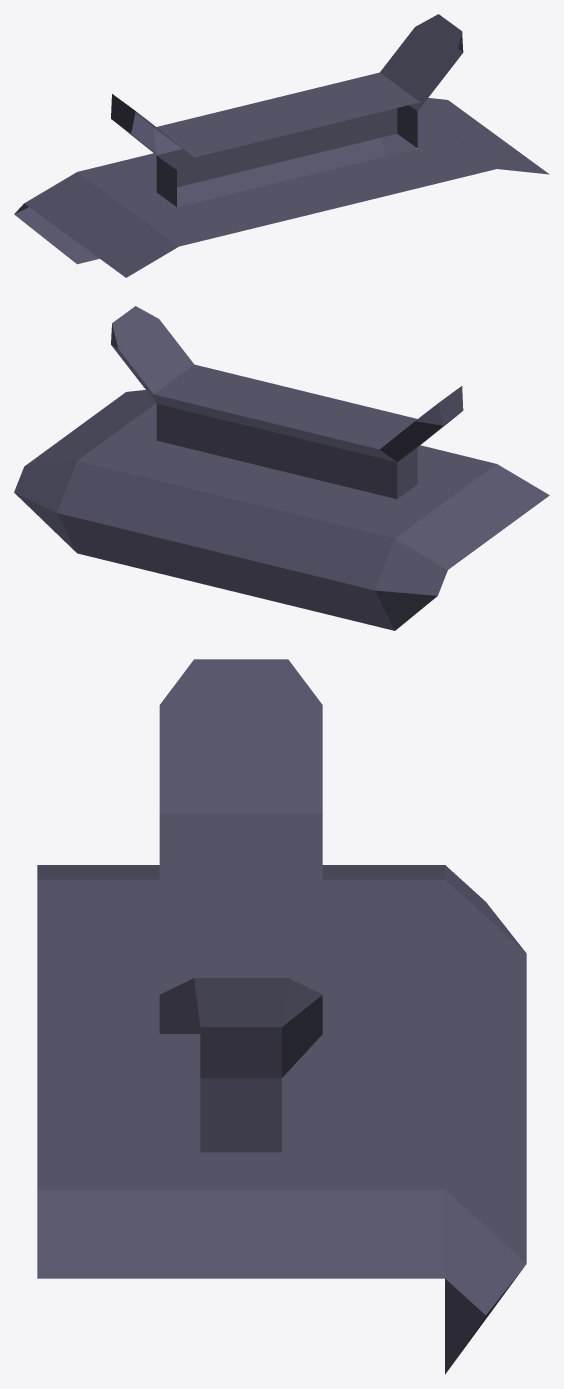
File: tool_cargo.fbx
The picture shows the model from 3 angles, top to bottom: view 1: azimuth 30°, elevation 25°; view 2: azimuth 150°, elevation 25°; view 3: azimuth 270°, elevation 25°; orthographic projection. The views are drawn at different scales.
Visible parts, largest first — view 1: tool_cargo; view 2: tool_cargo; view 3: tool_cargo.
Boxes of the visible parts, x1,y1,x2,y2 form: tool_cargo: (14, 14, 549, 277); tool_cargo: (14, 306, 549, 630); tool_cargo: (37, 659, 526, 1374).
Size of the model in its own units: 60 by 27.11 by 30.
